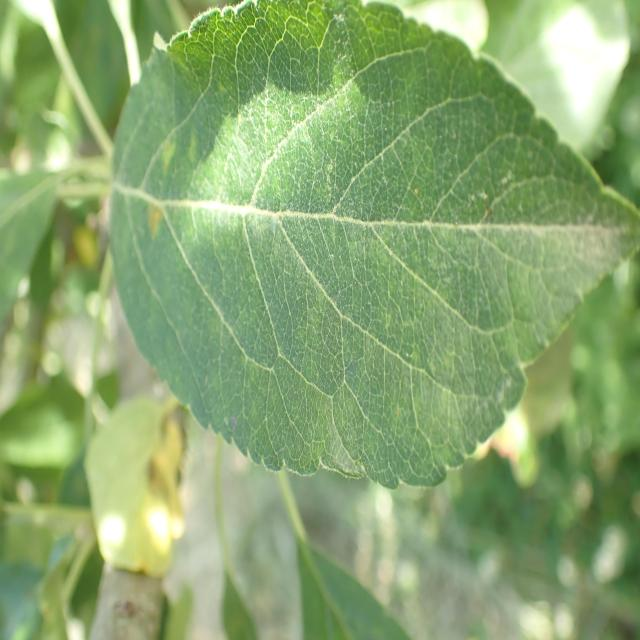scab: (128, 62, 608, 400)
